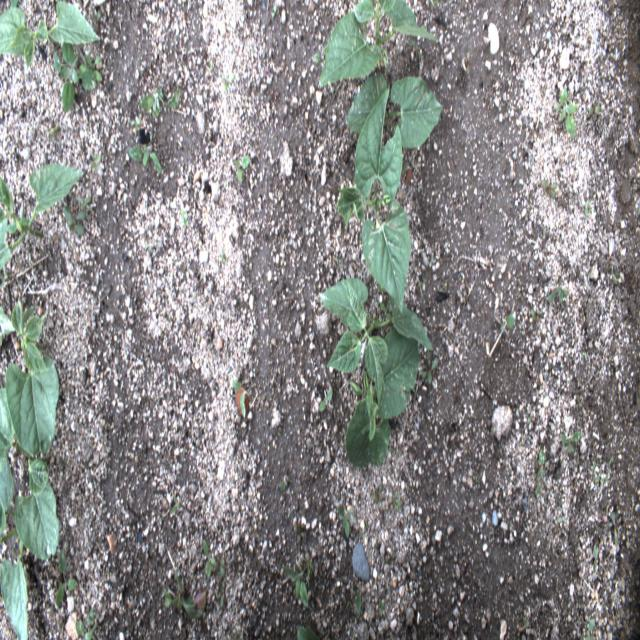crop: (336, 84, 412, 314), (320, 276, 434, 404), (344, 330, 420, 469), (319, 0, 441, 85), (0, 389, 60, 560), (0, 161, 88, 275), (0, 298, 59, 458), (345, 72, 443, 150), (0, 0, 101, 70), (0, 458, 28, 640)
weed: (53, 40, 89, 114), (164, 569, 204, 619), (54, 546, 80, 610), (136, 85, 184, 119), (283, 555, 313, 608), (553, 85, 580, 140), (128, 143, 164, 174), (82, 53, 104, 92), (230, 379, 249, 420), (62, 204, 86, 236), (202, 538, 219, 582), (337, 504, 356, 539), (548, 276, 570, 306), (421, 350, 439, 386), (234, 155, 250, 190), (534, 451, 546, 496), (74, 618, 99, 639), (561, 431, 583, 454), (602, 239, 620, 266), (608, 512, 619, 549), (296, 623, 321, 639), (89, 150, 104, 176), (541, 178, 557, 200), (319, 387, 333, 412), (352, 585, 363, 616), (74, 195, 94, 212), (500, 312, 516, 333), (294, 520, 306, 546), (222, 71, 236, 93), (312, 43, 326, 64), (372, 483, 384, 505), (380, 301, 392, 323), (410, 40, 422, 62), (584, 617, 596, 639), (92, 8, 102, 32), (212, 560, 225, 578), (587, 102, 602, 116), (130, 116, 143, 132), (170, 495, 180, 515), (416, 278, 427, 296), (584, 199, 595, 217), (217, 578, 224, 606), (530, 309, 541, 326), (378, 597, 387, 617), (279, 476, 290, 492), (392, 493, 401, 512), (592, 544, 598, 572), (179, 208, 188, 226), (87, 611, 95, 626), (526, 411, 534, 425), (466, 51, 470, 75), (556, 514, 565, 524), (10, 0, 18, 8)
